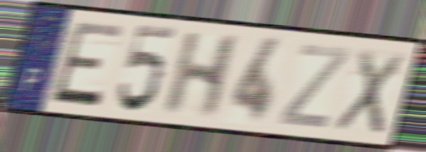4: (225, 34, 284, 129)
5: (115, 21, 179, 116)
E: (47, 19, 127, 110)
H: (159, 30, 244, 121)
X: (331, 46, 407, 138)
Z: (276, 42, 353, 131)
